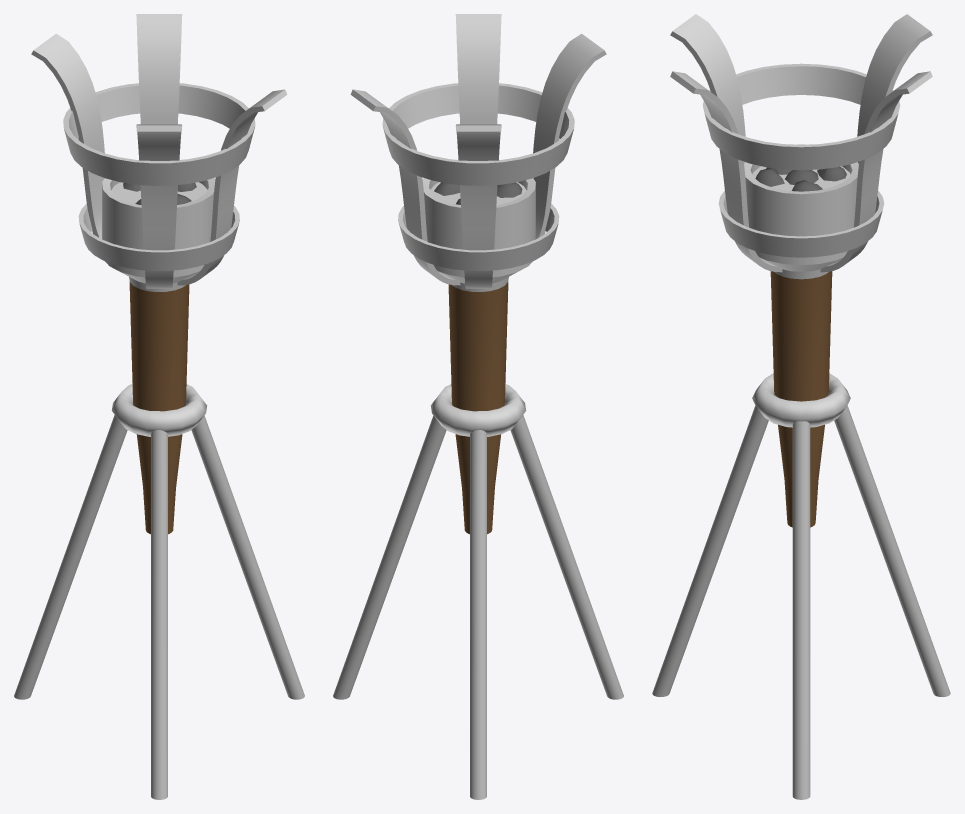
Rendered from medieval_torch.fbx.
3 renders of one model, left to right at view 1: azimuth 30°, elevation 25°; view 2: azimuth 150°, elevation 25°; view 3: azimuth 270°, elevation 25°, orthographic. The views are drawn at different scales.
Parts seen in each view (by area): view 1: Torch; view 2: Torch; view 3: Torch.
Part boxes in pixels (x1,y1,x2,y2): Torch: [14, 14, 304, 799]; Torch: [333, 14, 623, 799]; Torch: [652, 14, 950, 799].
Size of the model in its own units: 2.94 by 8.13 by 3.25.
